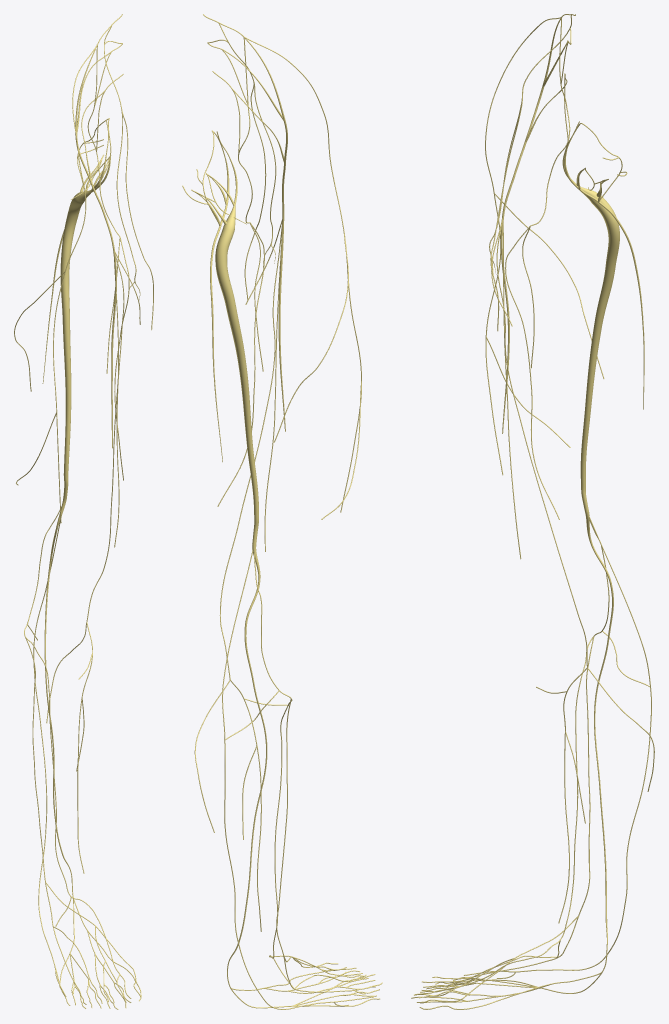
The model's file is nervous.glb.
3 renders of one model, left to right at view 1: azimuth 30°, elevation 25°; view 2: azimuth 150°, elevation 25°; view 3: azimuth 270°, elevation 25°, orthographic. The views are drawn at different scales.
Parts seen in each view (by area): view 1: Sciatic nerve.r.001, Femoral nerve.r.001, Saphenous nerve.r.001, Lateral femoral cutaneous nerve.r.001, Tibial nerve.r.001, Sural nerve.r.001, Obturator nerve.r.001, Deep fibular nerve.r.001, Anterior cutaneous branches of femoral nerve.r.001, Posterior femoral cutaneous nerve.r.001, Superficial fibular nerve.r.001, Anterior branch of obturator nerve.r.001; view 2: Sciatic nerve.r.001, Saphenous nerve.r.001, Femoral nerve.r.001, Lateral femoral cutaneous nerve.r.001, Tibial nerve.r.001, Sural nerve.r.001, Posterior femoral cutaneous nerve.r.001, Obturator nerve.r.001, Anterior cutaneous branches of femoral nerve.r.001, Deep fibular nerve.r.001; view 3: Sciatic nerve.r.001, Saphenous nerve.r.001, Lateral femoral cutaneous nerve.r.001, Femoral nerve.r.001, Tibial nerve.r.001, Sural nerve.r.001, Posterior femoral cutaneous nerve.r.001, Deep fibular nerve.r.001.
Boxes of the visible parts, <box> form: Sciatic nerve.r.001: <box>60,120,109,498</box>; Femoral nerve.r.001: <box>75,14,122,448</box>; Saphenous nerve.r.001: <box>46,254,124,873</box>; Lateral femoral cutaneous nerve.r.001: <box>14,44,97,522</box>; Tibial nerve.r.001: <box>44,498,73,896</box>; Sural nerve.r.001: <box>33,589,66,996</box>; Obturator nerve.r.001: <box>87,45,123,236</box>; Deep fibular nerve.r.001: <box>24,635,109,949</box>; Anterior cutaneous branches of femoral nerve.r.001: <box>114,259,119,547</box>; Posterior femoral cutaneous nerve.r.001: <box>42,150,111,383</box>; Superficial fibular nerve.r.001: <box>25,638,45,882</box>; Anterior branch of obturator nerve.r.001: <box>114,236,129,480</box>; Sciatic nerve.r.001: <box>191,131,258,545</box>; Saphenous nerve.r.001: <box>194,226,281,931</box>; Femoral nerve.r.001: <box>203,14,287,431</box>; Lateral femoral cutaneous nerve.r.001: <box>244,37,361,519</box>; Tibial nerve.r.001: <box>227,545,267,987</box>; Sural nerve.r.001: <box>222,681,373,1009</box>; Posterior femoral cutaneous nerve.r.001: <box>210,155,229,462</box>; Obturator nerve.r.001: <box>212,37,252,223</box>; Anterior cutaneous branches of femoral nerve.r.001: <box>264,222,283,551</box>; Deep fibular nerve.r.001: <box>269,699,302,963</box>; Sciatic nerve.r.001: <box>562,121,619,512</box>; Saphenous nerve.r.001: <box>496,222,654,923</box>; Lateral femoral cutaneous nerve.r.001: <box>485,17,604,475</box>; Femoral nerve.r.001: <box>500,14,575,433</box>; Tibial nerve.r.001: <box>585,511,613,971</box>; Sural nerve.r.001: <box>463,636,651,978</box>; Posterior femoral cutaneous nerve.r.001: <box>564,149,644,409</box>; Deep fibular nerve.r.001: <box>487,636,593,976</box>.
Bounding box in the file's own units: 0.1475 × 1.09 × 0.2357.
